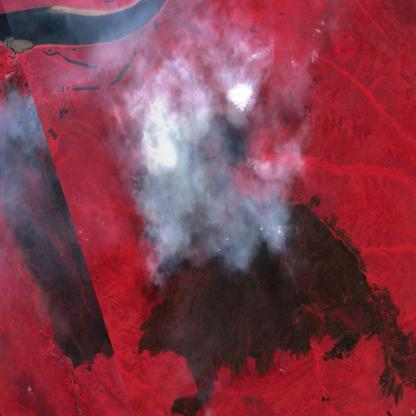fire: (133, 107, 250, 302)
